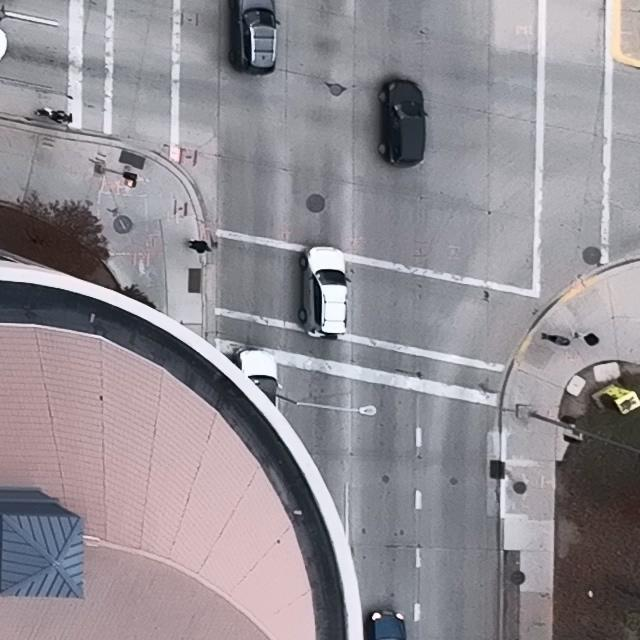car: (299, 245, 351, 340), (378, 79, 428, 167), (228, 0, 280, 74), (235, 348, 283, 409), (366, 610, 407, 640)
